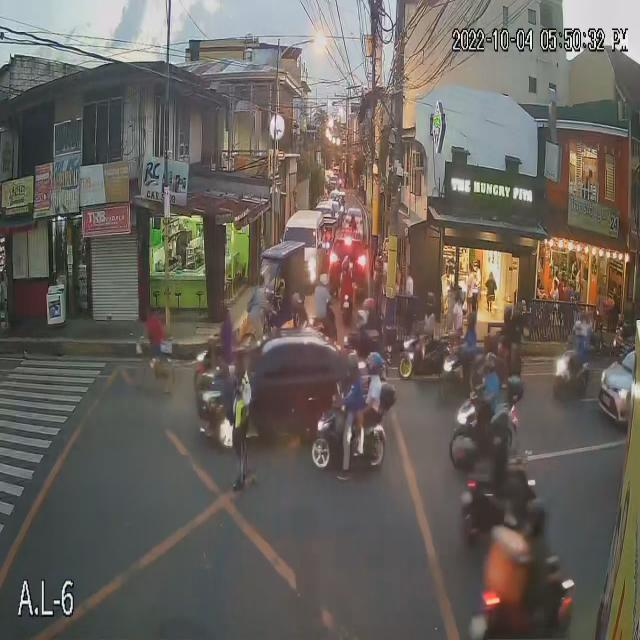helmet: (526, 497, 549, 533), (339, 353, 366, 383), (489, 409, 515, 438), (480, 353, 504, 380), (366, 350, 391, 375), (422, 290, 442, 316), (463, 304, 481, 331), (357, 297, 378, 319), (500, 300, 518, 320), (342, 256, 355, 283), (318, 272, 332, 289), (573, 320, 584, 341)
motorcycle: (472, 552, 593, 640), (307, 409, 401, 470), (450, 398, 524, 467), (453, 472, 536, 531), (395, 336, 447, 382), (555, 350, 593, 405), (440, 353, 482, 391), (312, 312, 339, 351), (334, 294, 360, 327)
rider: (516, 494, 563, 591), (338, 351, 367, 429), (489, 407, 516, 486), (362, 349, 392, 420), (417, 290, 444, 345), (478, 350, 500, 416), (311, 271, 334, 323), (337, 253, 362, 298), (494, 301, 515, 354), (566, 321, 588, 371), (463, 310, 481, 361), (365, 296, 384, 343)
